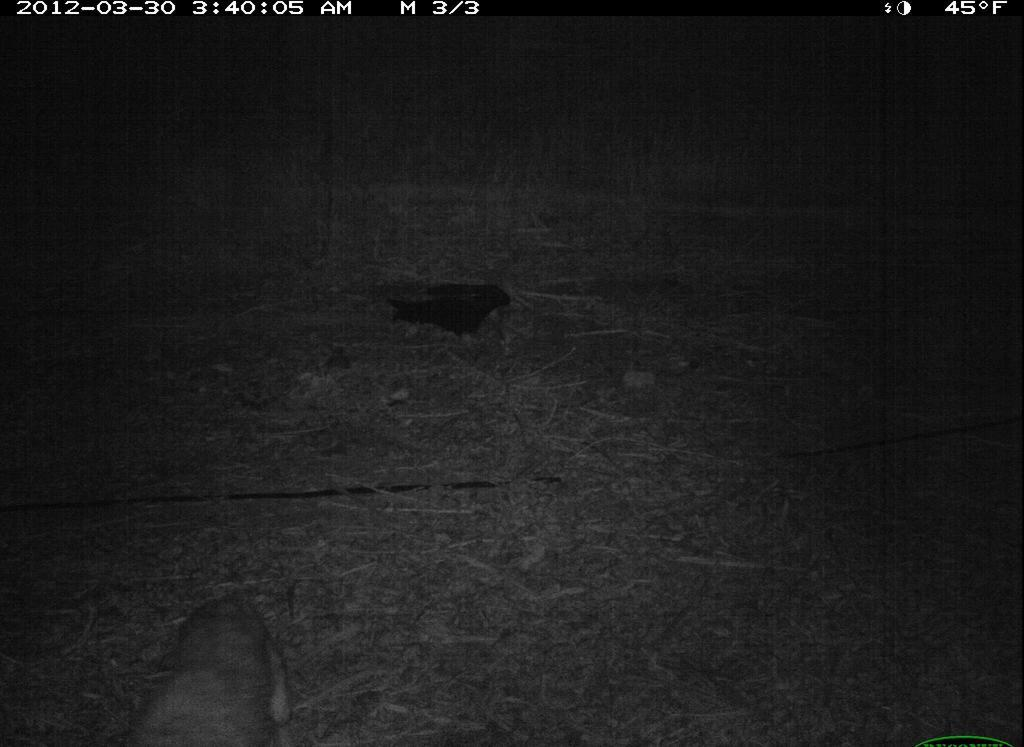coyote: (111, 585, 309, 747)
